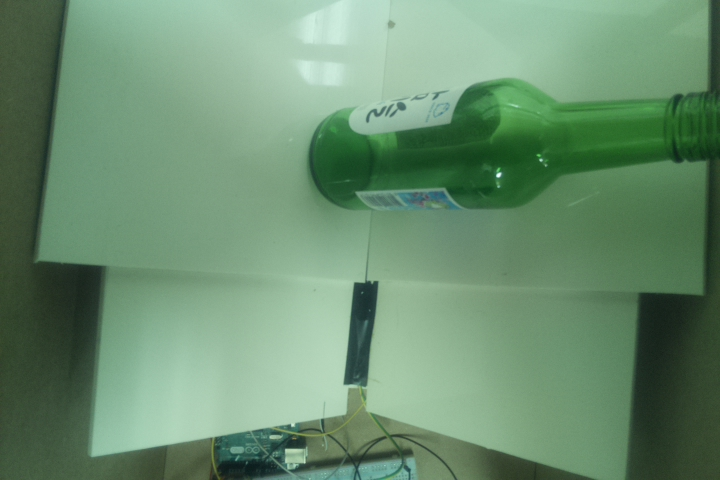soju: (309, 76, 720, 213)
